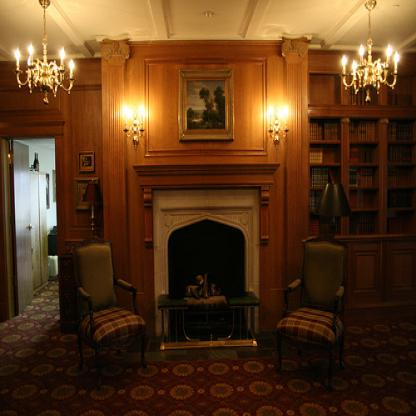chair: (70, 232, 148, 391), (274, 234, 350, 391)
